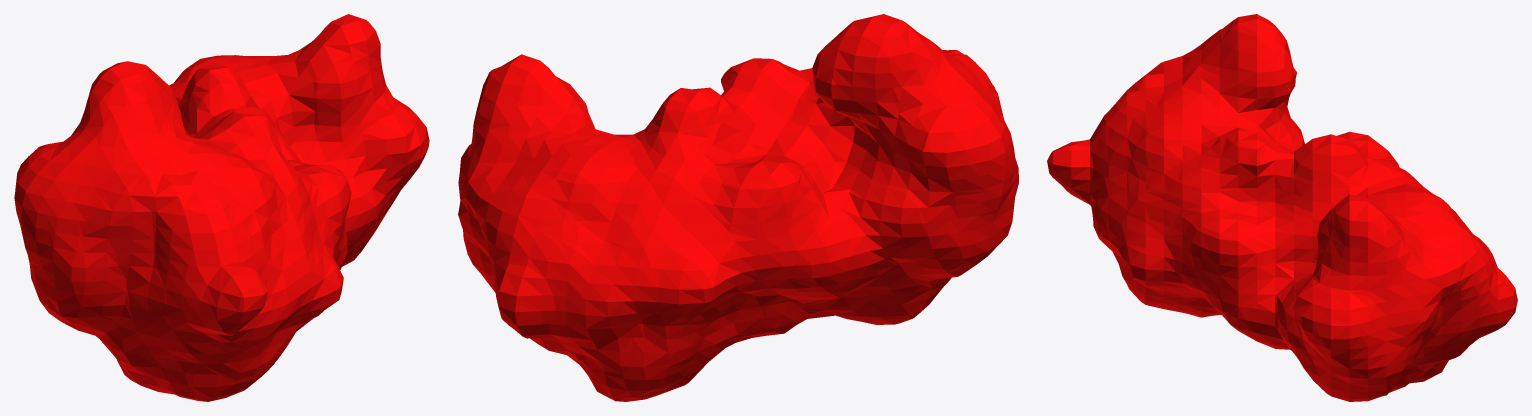
Rendered from pyrH_coarse.dae.
3 views of the same model, side by side, from view 1: azimuth 30°, elevation 25°; view 2: azimuth 150°, elevation 25°; view 3: azimuth 270°, elevation 25° (orthographic). The views are drawn at different scales.
Visible parts, largest first — view 1: pyrH; view 2: pyrH; view 3: pyrH.
Boxes of the visible parts, bbox=[...] form: pyrH: bbox=[14, 14, 429, 401]; pyrH: bbox=[458, 14, 1018, 401]; pyrH: bbox=[1047, 14, 1517, 401].
Bounding box in the file's own units: 80.88 × 57.91 × 80.89.
